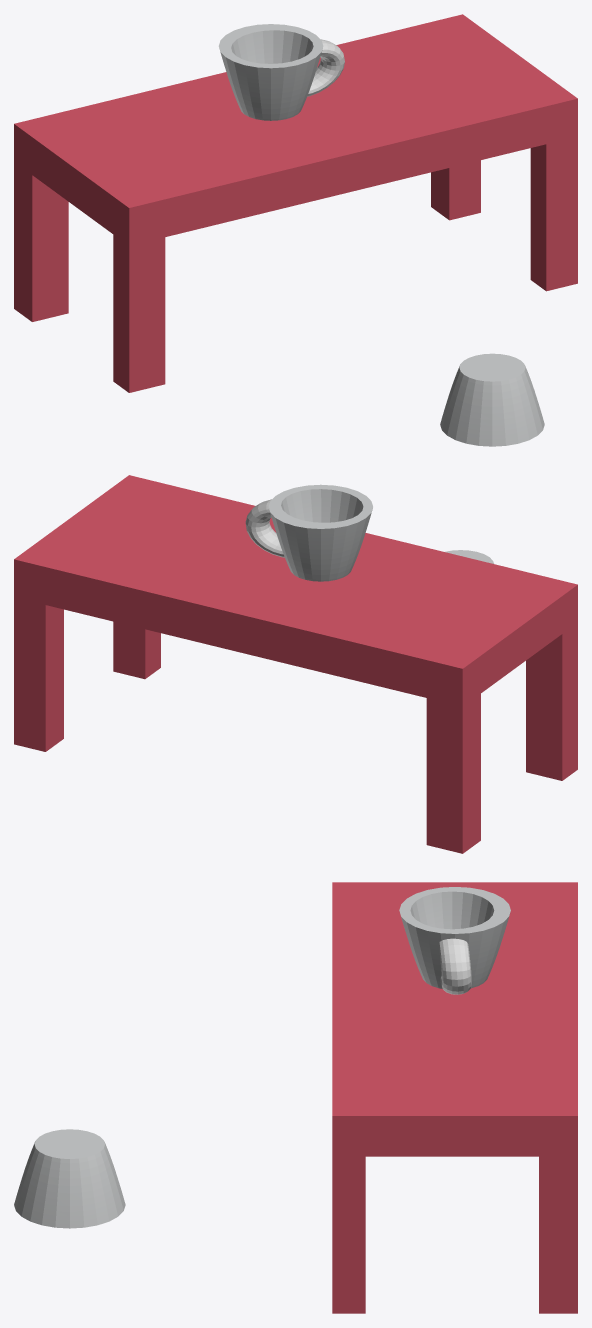
The model's file is TableModel.glb.
The picture shows the model from 3 angles, top to bottom: view 1: azimuth 30°, elevation 25°; view 2: azimuth 150°, elevation 25°; view 3: azimuth 270°, elevation 25°; orthographic projection. The views are drawn at different scales.
Visible parts, largest first — view 1: Mesh_Mesh_head_geo.001_lambert2SG.001; view 2: Mesh_Mesh_head_geo.001_lambert2SG.001; view 3: Mesh_Mesh_head_geo.001_lambert2SG.001.
Boxes of the visible parts, x1,y1,x2,y2 form: Mesh_Mesh_head_geo.001_lambert2SG.001: (14, 14, 577, 446); Mesh_Mesh_head_geo.001_lambert2SG.001: (14, 475, 577, 853); Mesh_Mesh_head_geo.001_lambert2SG.001: (14, 882, 577, 1313).
Bounding box in the file's own units: 99 × 54 × 101.
